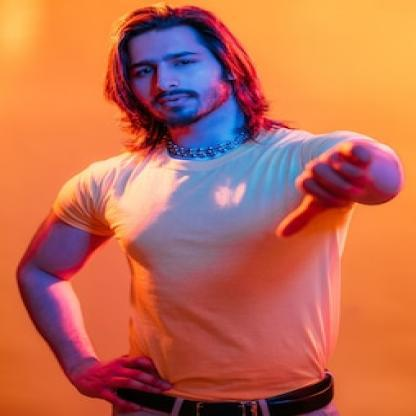thumb_down: (274, 134, 382, 242)
